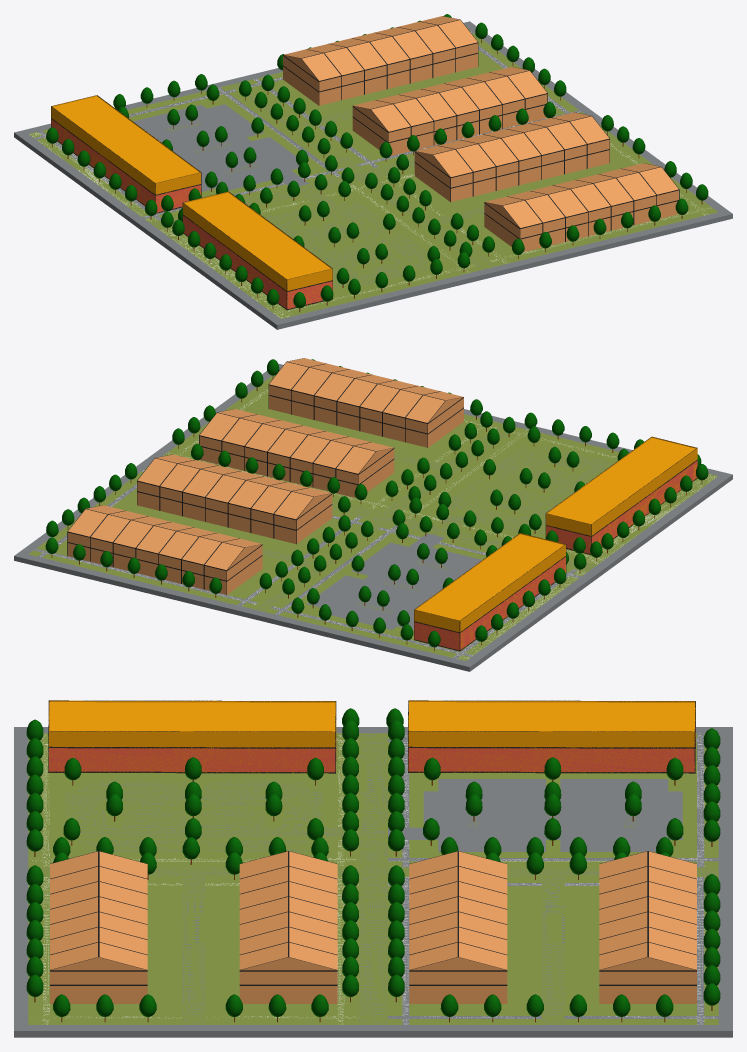
File: 450_townhome_commercial_B.dae
3 renders of one model, top to bottom at view 1: azimuth 30°, elevation 25°; view 2: azimuth 150°, elevation 25°; view 3: azimuth 270°, elevation 25°, orthographic. The views are drawn at different scales.
Visible parts, largest first — view 1: group_2 (×18), _10k_Commercial_1 (×11), Component_2 (×29); view 2: group_2 (×18), _10k_Commercial_1 (×11), Component_2 (×29); view 3: group_2 (×19), Component_2 (×72), _10k_Commercial_1 (×8).
Part boxes in pixels (<box>): group_2 (×18): <box>14,21,732,329</box>; _10k_Commercial_1 (×11): <box>51,95,332,310</box>; Component_2 (×29): <box>302,20,678,227</box>; group_2 (×18): <box>14,363,732,671</box>; _10k_Commercial_1 (×11): <box>414,436,697,651</box>; Component_2 (×29): <box>68,362,444,569</box>; group_2 (×19): <box>14,727,732,1037</box>; Component_2 (×72): <box>50,851,696,1003</box>; _10k_Commercial_1 (×8): <box>48,700,695,773</box>.
Size of the model in its own units: 97.5 by 97.5 by 8.
